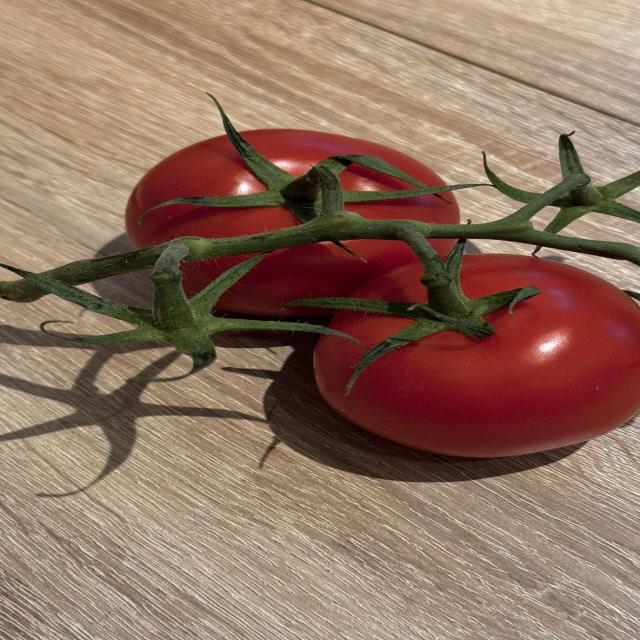tomato: (315, 255, 639, 457), (127, 136, 299, 248)
